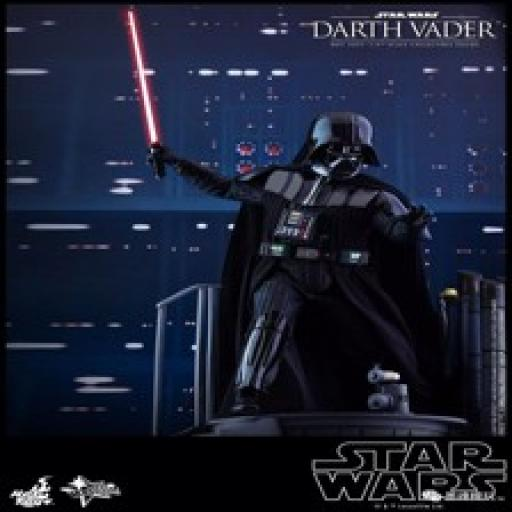human: (144, 108, 434, 408)
sith saber: (127, 6, 170, 186)
